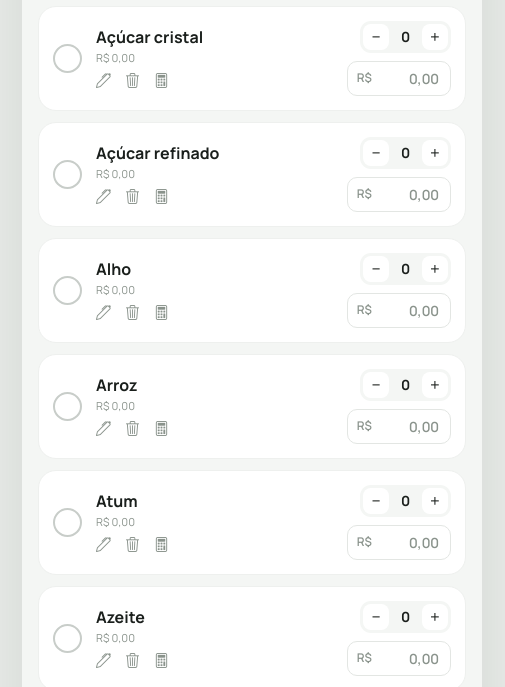
it: total informa o tamanho do texto para o CSS ajustar a fonte
The image size is (505, 687).
(page scrolled)
Click the button named "Aumentar Arroz". click: x=435, y=385
box: [422,372,448,398]
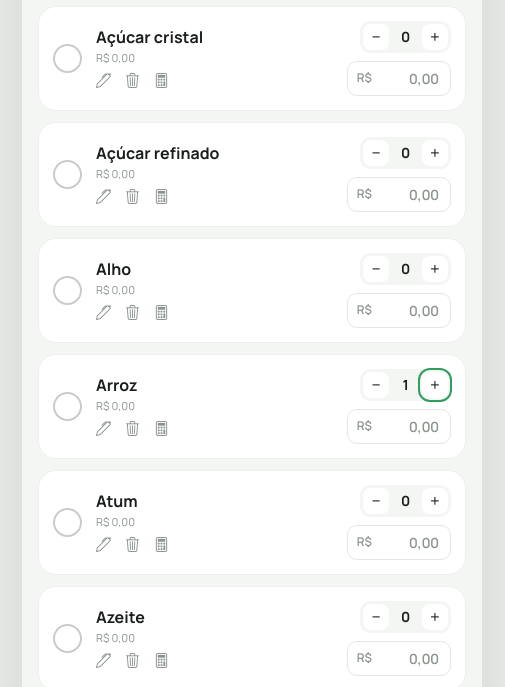
Type "9999999999" into the field named "Preço de Arroz". click: x=408, y=426
box: [375,415,441,438]
(page scrolled)
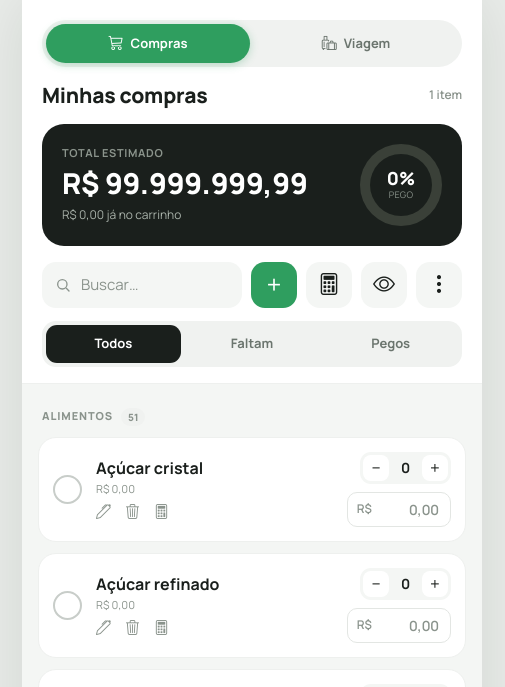
Now the text with test id "total-estimado" shows "99.999.999,99", box [62,163,307,203]
